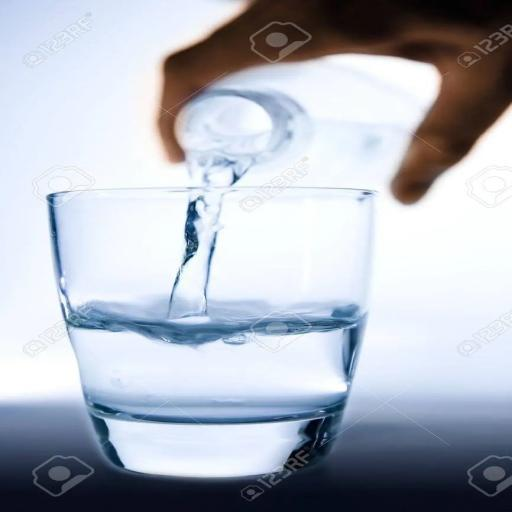bottle: (32, 178, 392, 483)
